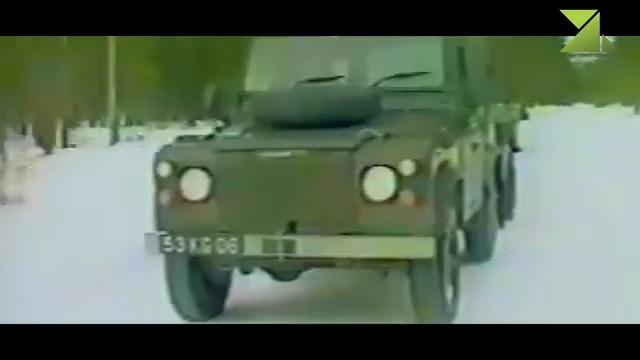MIL_HMMWV: (143, 35, 525, 323)
